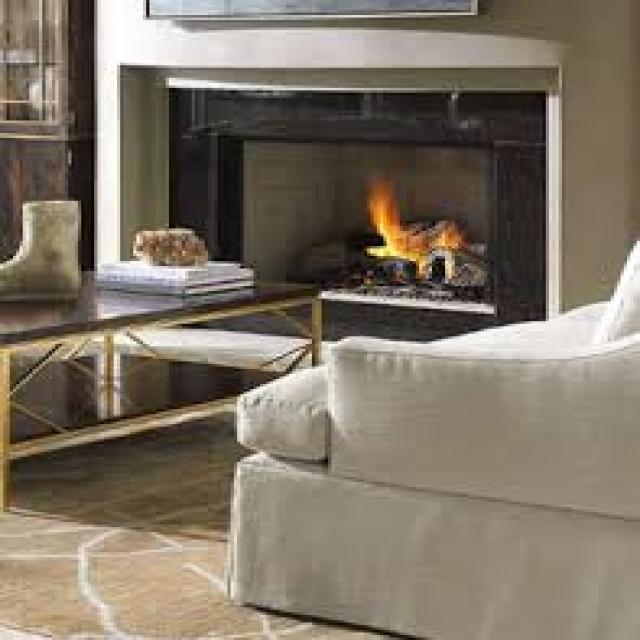fire: (364, 174, 468, 279)
